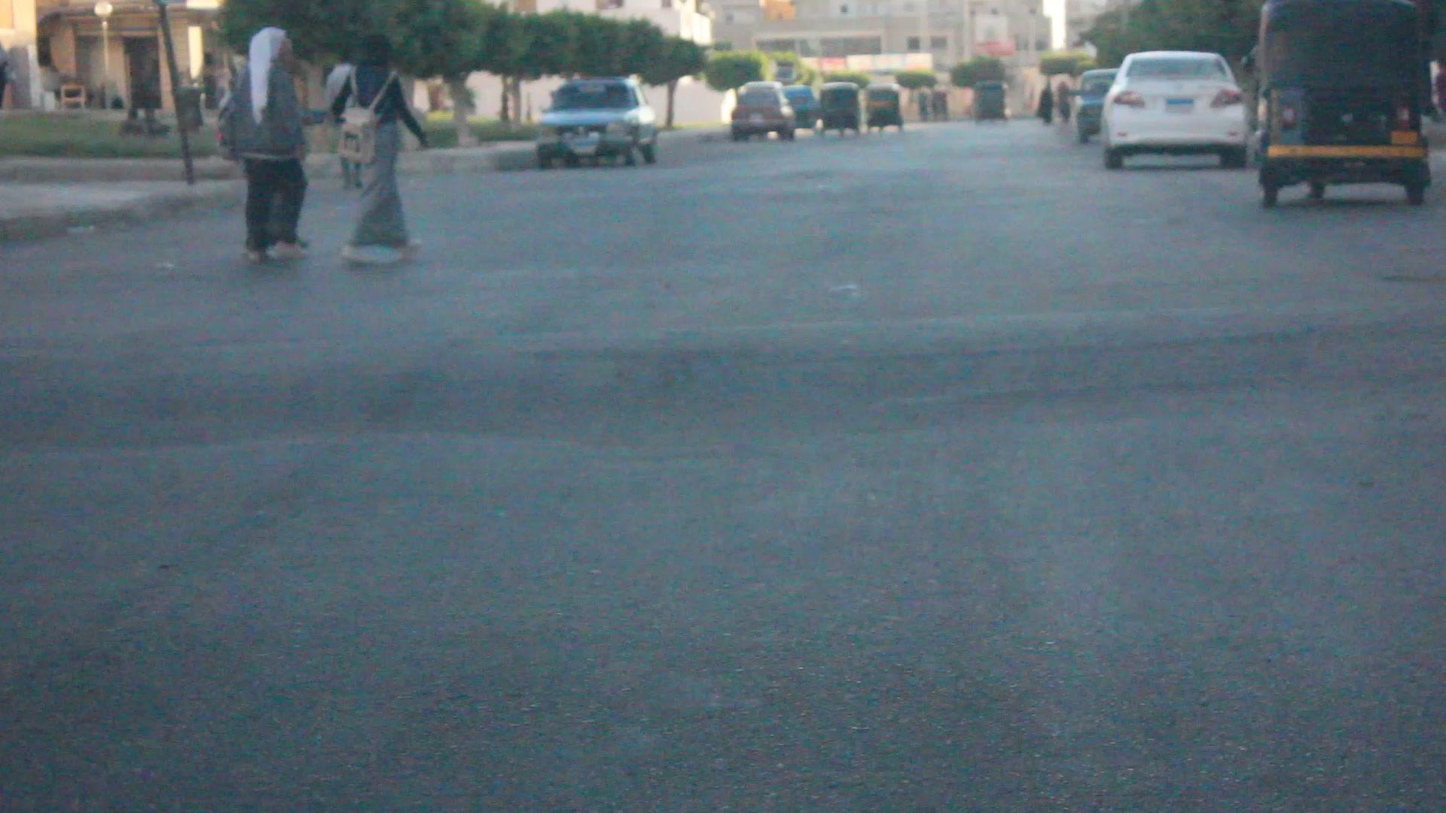Bump: (0, 311, 1446, 442)
